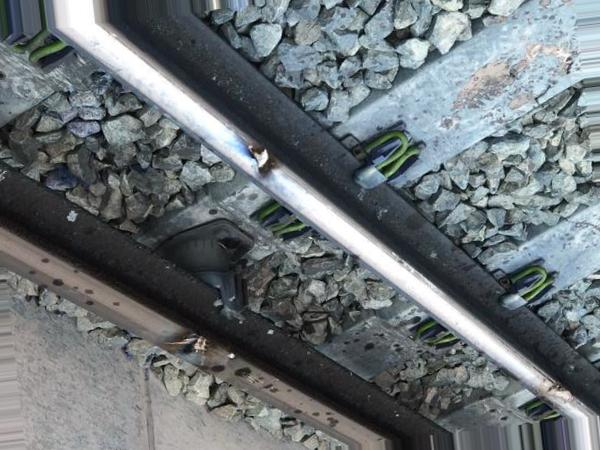tracks_fault: (168, 267, 274, 398), (224, 93, 315, 230), (528, 349, 586, 424)
